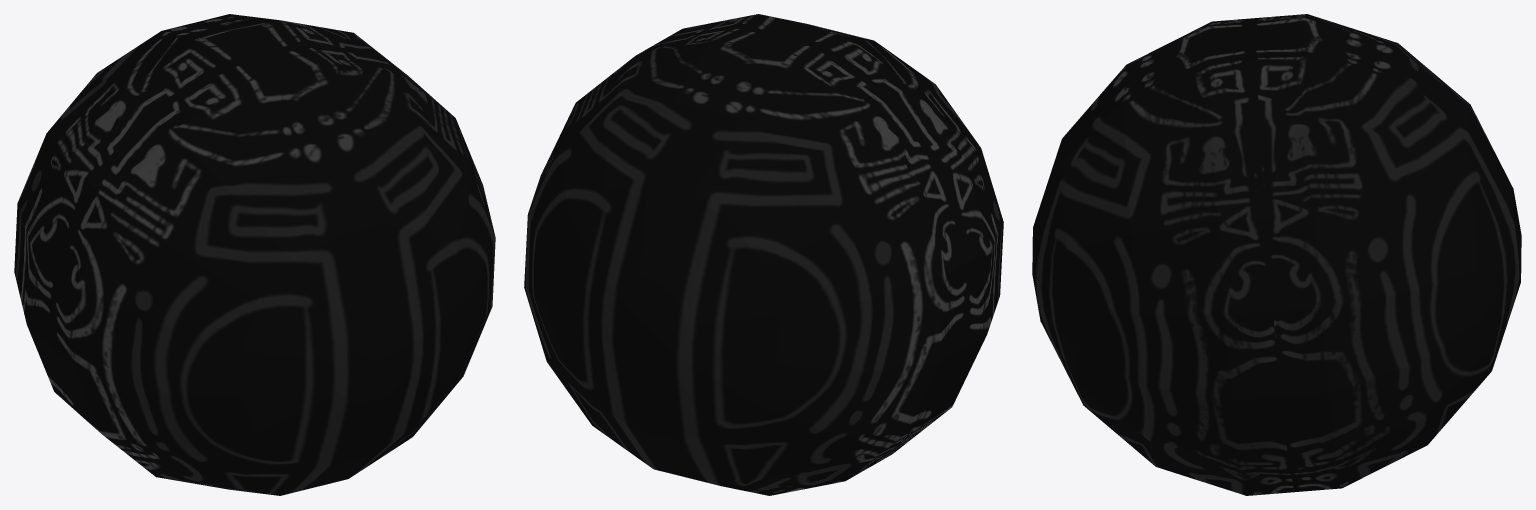
Rendered from character_glTF.glb.
3 views of the same model, side by side, from view 1: azimuth 30°, elevation 25°; view 2: azimuth 150°, elevation 25°; view 3: azimuth 270°, elevation 25° (orthographic).
Parts seen in each view (by area): view 1: Sphere; view 2: Sphere; view 3: Sphere.
Boxes of the visible parts, x1,y1,x2,y2 form: Sphere: (14,14,495,495); Sphere: (524,14,1003,495); Sphere: (1032,14,1521,495).
Size of the model in its own units: 1.93 by 1.95 by 1.99.
Materials: 1 (1 with a texture image).
